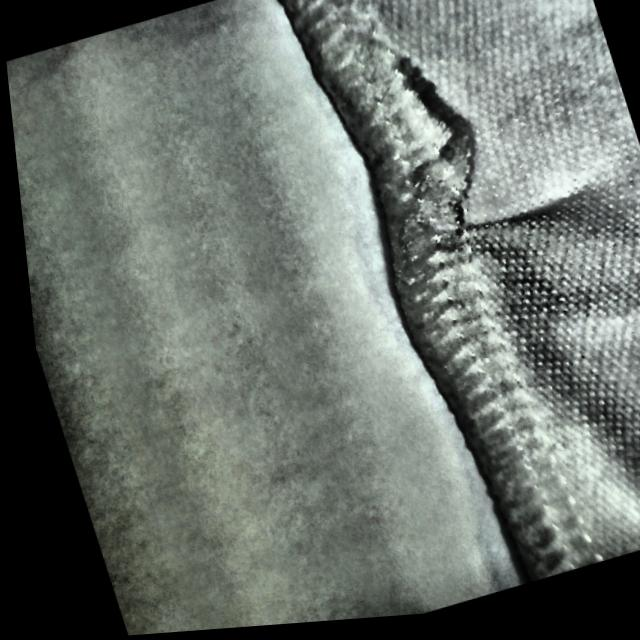seam: (330, 54, 578, 297)
